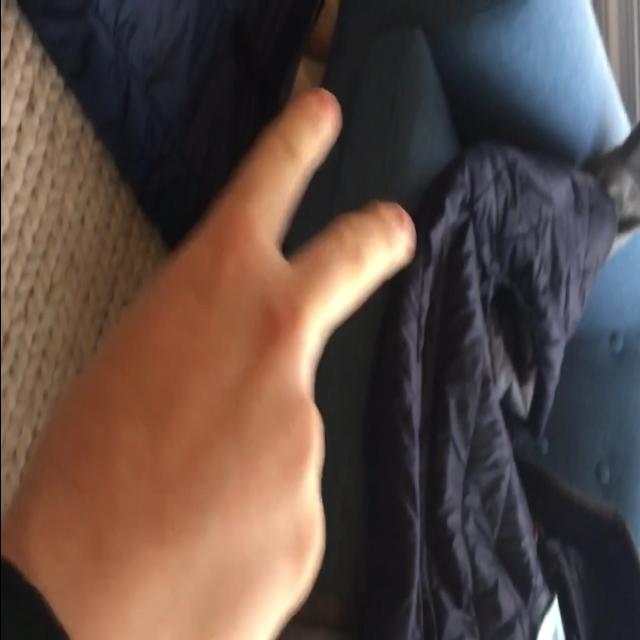Scissors: (49, 90, 417, 640)
